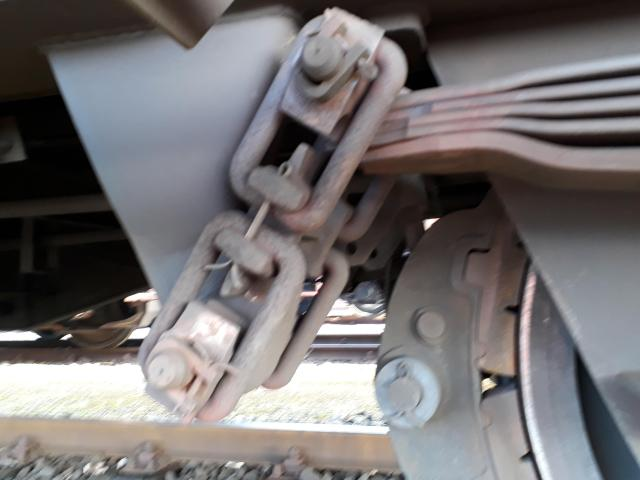blattfederww: (315, 79, 640, 195)
